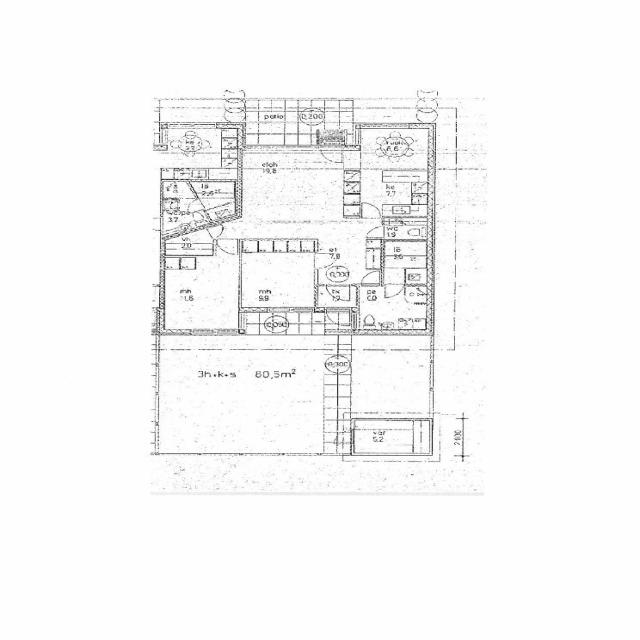door: (326, 307, 350, 329), (326, 284, 350, 302), (321, 145, 342, 165), (314, 253, 338, 268), (216, 239, 238, 255), (205, 224, 228, 239), (361, 270, 380, 286), (332, 431, 354, 444), (362, 203, 381, 218), (385, 284, 403, 299), (366, 226, 384, 238)
